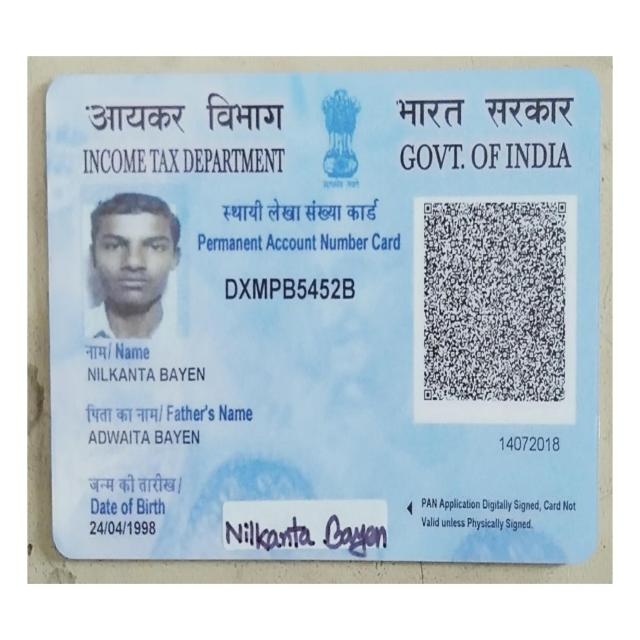pan_card: (72, 83, 588, 557)
